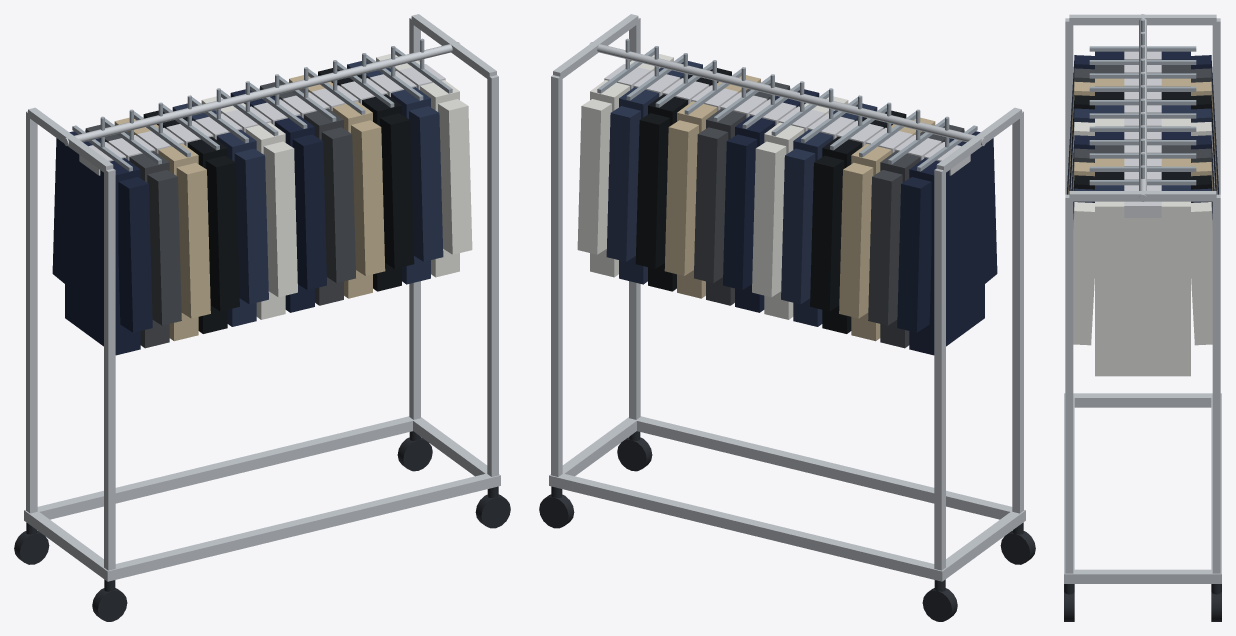
File: aski-rafi.glb
3 views of the same model, side by side, from view 1: azimuth 30°, elevation 25°; view 2: azimuth 150°, elevation 25°; view 3: azimuth 270°, elevation 25° (orthographic). The views are drawn at different scales.
Parts seen in each view (by area): view 1: Asset; view 2: Asset; view 3: Asset.
Part boxes in pixels (box(x1,y1,x2,y2)): Asset: box(14, 14, 510, 621); Asset: box(539, 14, 1035, 621); Asset: box(1064, 14, 1221, 621).
Bounding box in the file's own units: 1.68 × 1.81 × 0.59.
